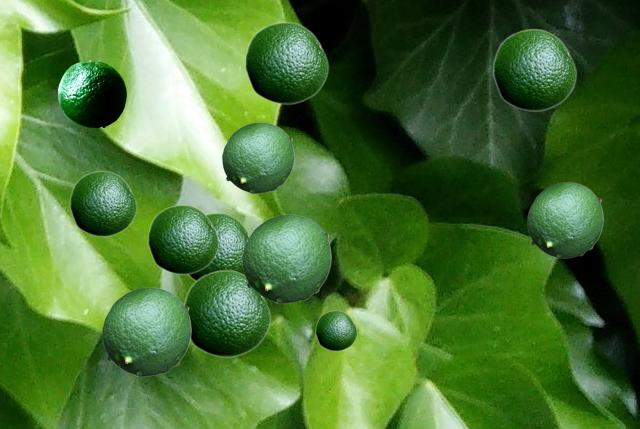calamansi: (242, 214, 330, 302), (102, 287, 190, 375), (183, 269, 270, 357), (244, 21, 328, 104), (492, 28, 576, 111), (527, 182, 602, 257), (147, 204, 218, 274), (222, 122, 293, 192), (69, 170, 136, 236), (58, 60, 125, 126), (188, 212, 249, 280), (315, 310, 356, 350)
